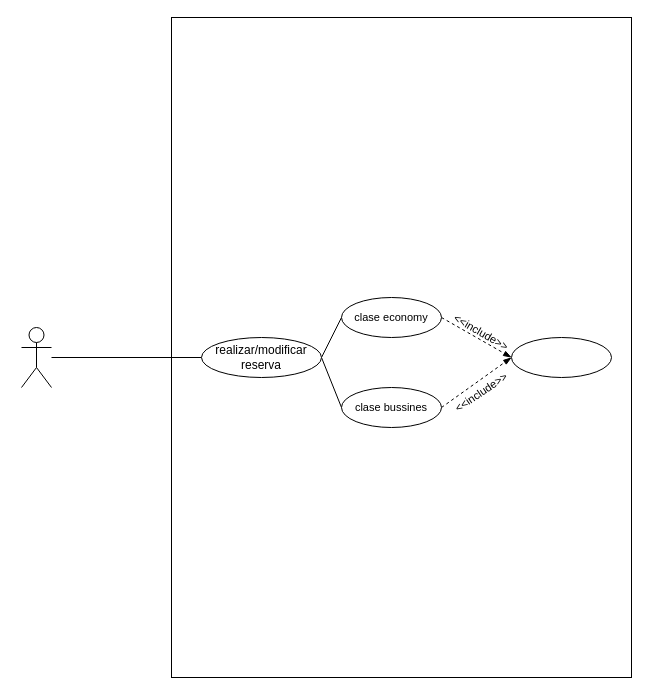
Some shapes in this 649 by 695 pixel diagram are drawn without their labels. The shapes that lost their labels are listed below. From the top down, each one's centre as x and y in pixels, then its label:
[36,357]: Agente
[561,357]: comprobar asientos
